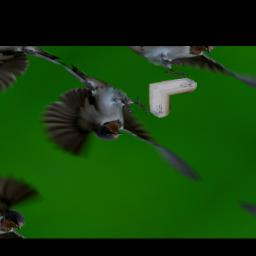Swallow: (6, 61, 231, 212)
